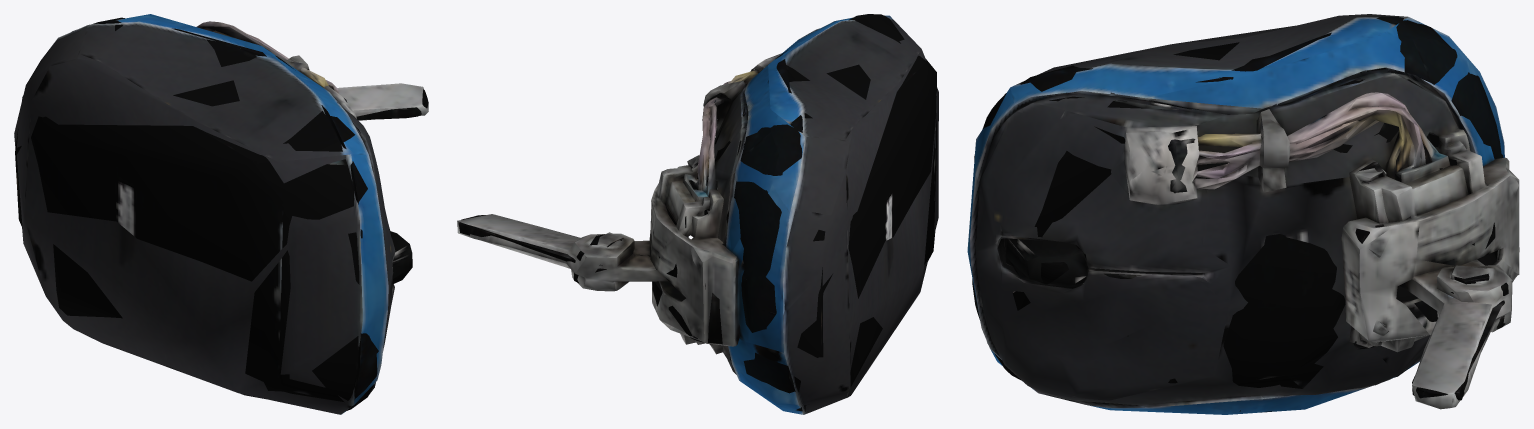
File: fanshuo-mouse.glb
The picture shows the model from 3 angles, left to right: view 1: azimuth 30°, elevation 25°; view 2: azimuth 150°, elevation 25°; view 3: azimuth 270°, elevation 25°; orthographic projection. The views are drawn at different scales.
Parts seen in each view (by area): view 1: world; view 2: world; view 3: world.
Part boxes in pixels (x1=…): world: x1=14, y1=14, x2=428, y2=414; world: x1=457, y1=14, x2=938, y2=414; world: x1=967, y1=14, x2=1519, y2=414.
Size of the model in its own units: 0.1062 by 0.0799 by 0.11.
Materials: 1 (1 with a texture image).
